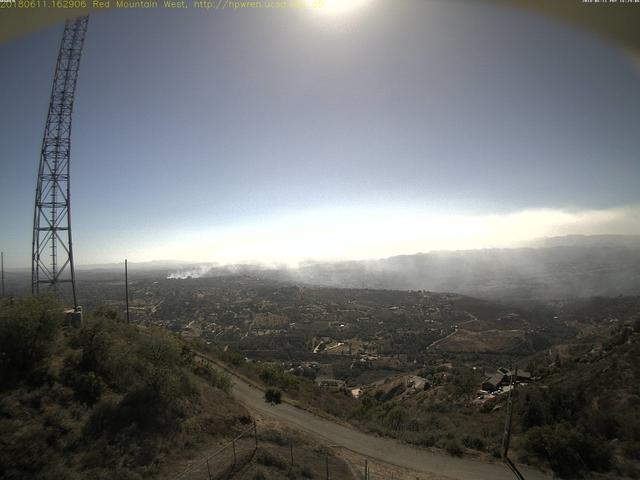smoke: (165, 239, 562, 299)
